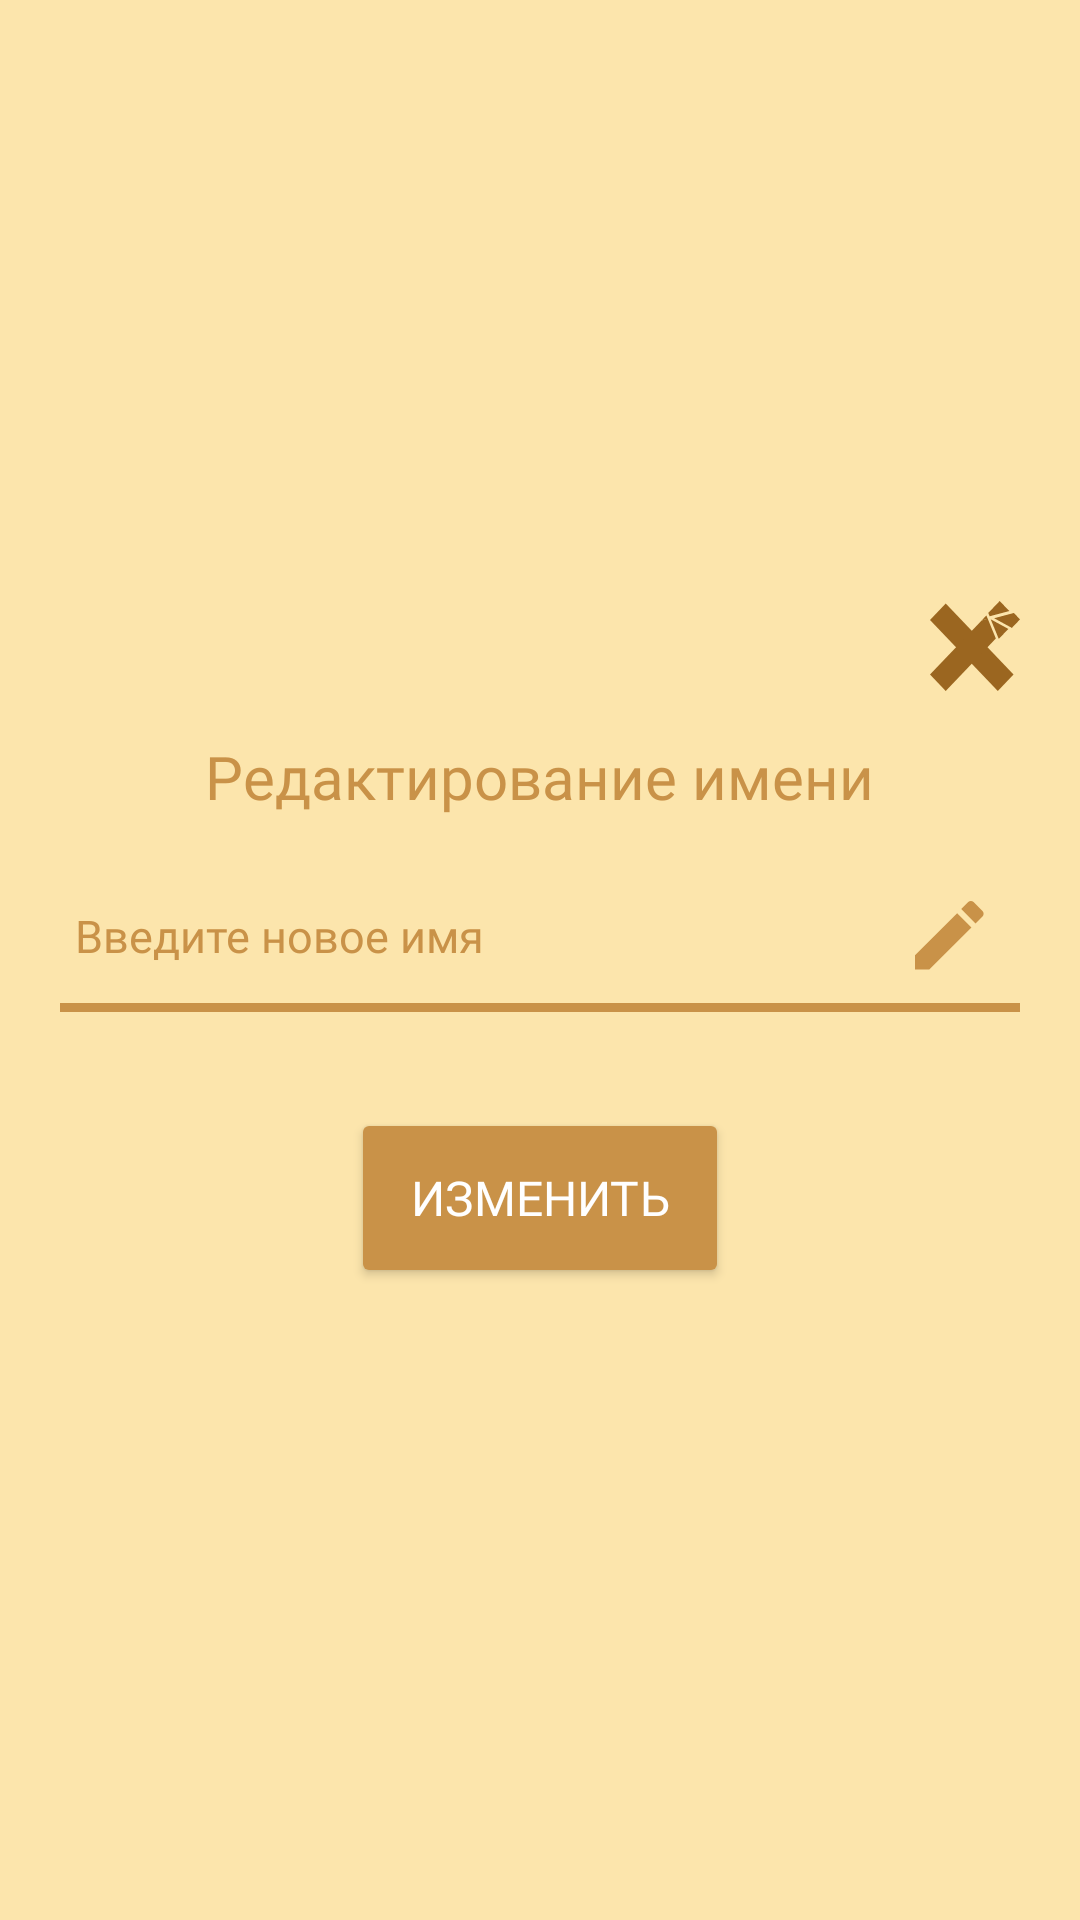

Locate icon controls on the screen. Image size 1080w x 1920h, boxes as (x1, y1, x2, y2).
close: (930, 601, 1020, 691)
